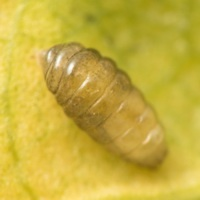insect: (41, 43, 166, 166)
